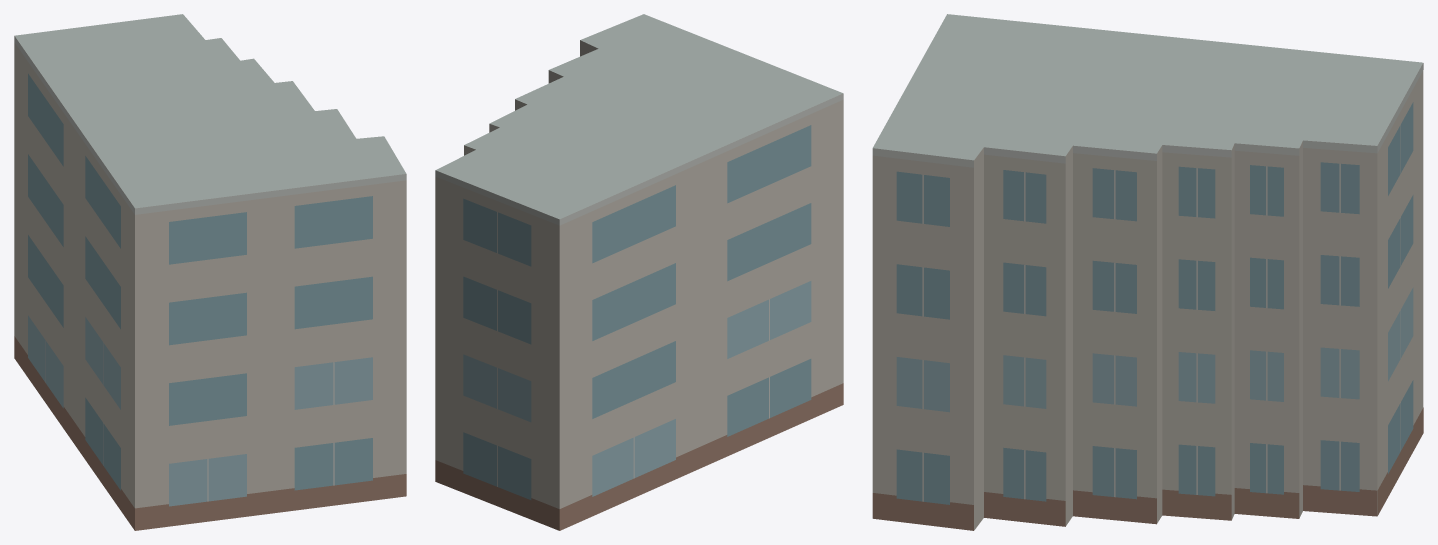
Rendered from survey-upis-32653825.glb.
3 renders of one model, left to right at view 1: azimuth 30°, elevation 25°; view 2: azimuth 150°, elevation 25°; view 3: azimuth 270°, elevation 25°, orthographic. The views are drawn at different scales.
Visible parts, largest first — view 1: survey-upis-32653825.tmp; view 2: survey-upis-32653825.tmp; view 3: survey-upis-32653825.tmp.
Boxes of the visible parts, x1,y1,x2,y2 form: survey-upis-32653825.tmp: [14, 14, 406, 530]; survey-upis-32653825.tmp: [435, 14, 843, 530]; survey-upis-32653825.tmp: [872, 14, 1423, 530].
Size of the model in its own units: 10.35 by 12.2 by 16.45.
